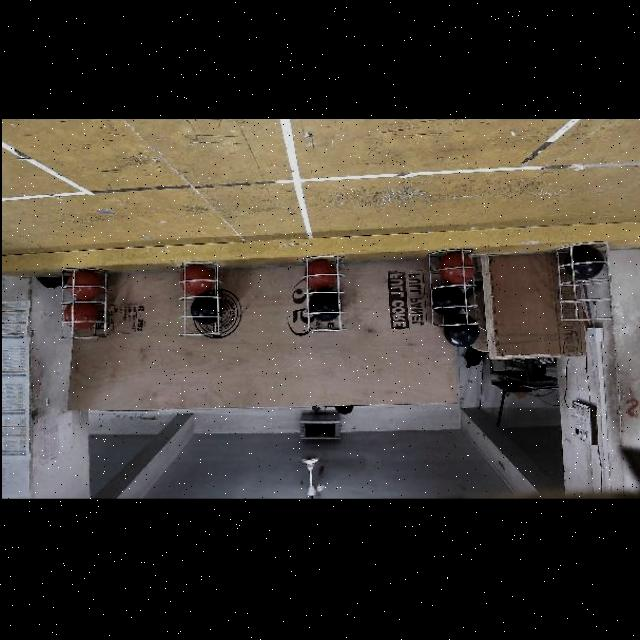P: (564, 246, 602, 278), (442, 314, 478, 347), (430, 284, 464, 316), (308, 288, 340, 320), (190, 293, 220, 325)
R: (438, 251, 474, 283), (179, 264, 211, 296), (65, 270, 98, 300), (63, 300, 95, 330), (304, 260, 334, 290)
S: (428, 244, 484, 334), (556, 238, 610, 324), (58, 267, 114, 341), (172, 262, 222, 342), (298, 252, 344, 334)
